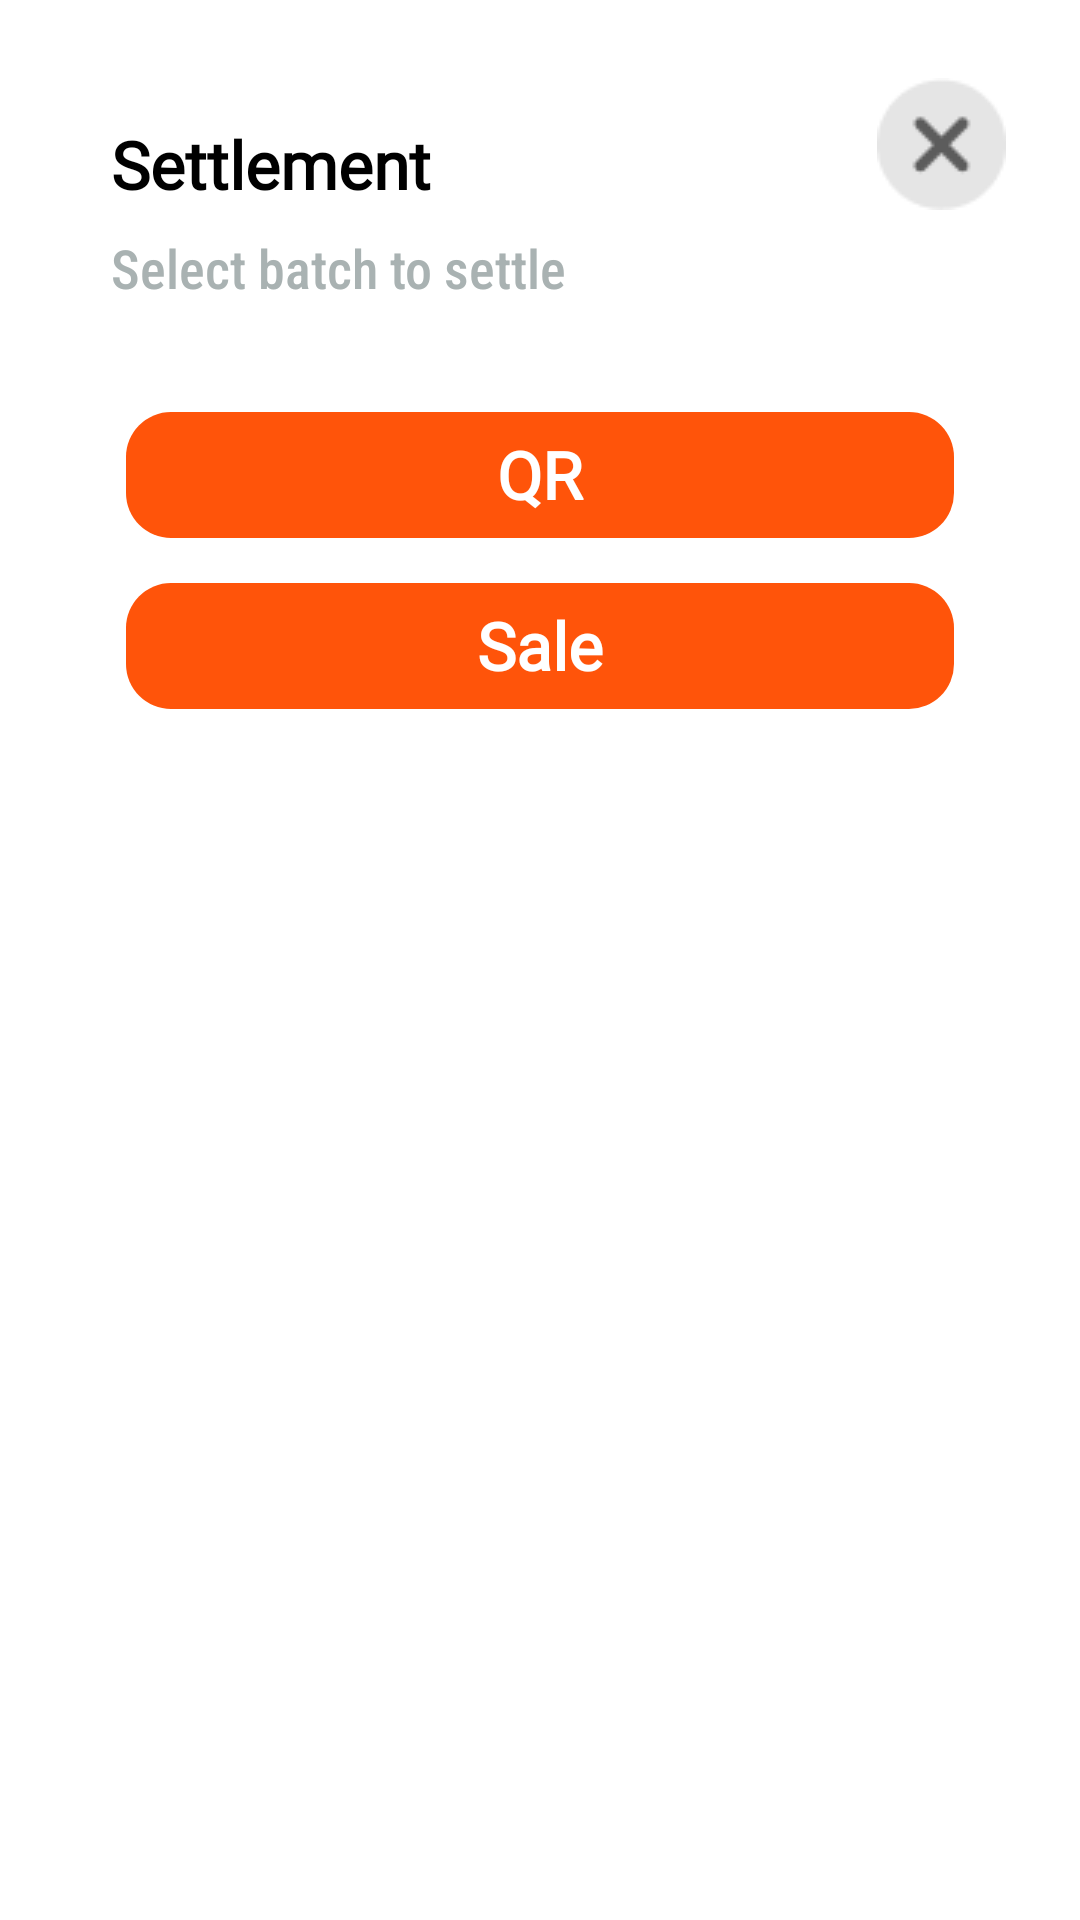

Icon bounding boxes for this 1080 x 1920 phone screenshot, format bbox=(x1, y1, x2, y2):
close: bbox=(877, 82, 1006, 206)
